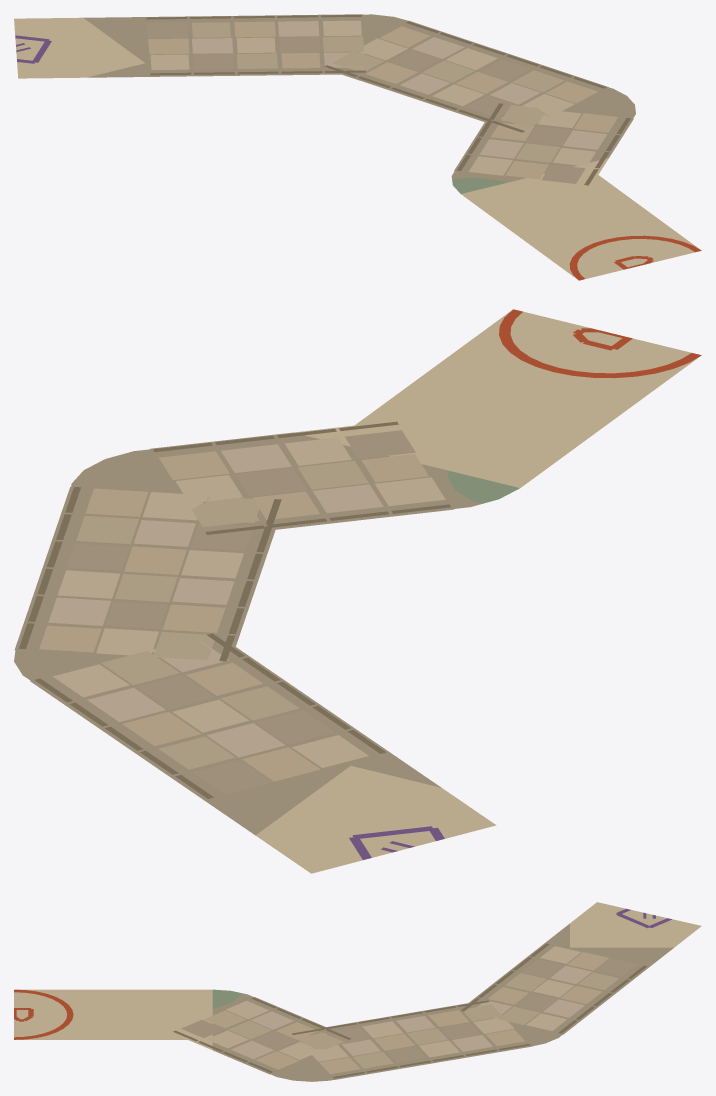
Rendered from route-pyramid_n-b-walk.glb.
The picture shows the model from 3 angles, top to bottom: view 1: azimuth 30°, elevation 25°; view 2: azimuth 150°, elevation 25°; view 3: azimuth 270°, elevation 25°; orthographic projection. The views are drawn at different scales.
Visible parts, largest first — view 1: Surveyed floor · route-pyramid_n-b-walk, North Pyramid to Bazaar Sanctuary / #C2AE8D, North Pyramid to Bazaar Sanctuary / #C9B798, North Pyramid to Bazaar Sanctuary / #BDAD8E, North Pyramid to Bazaar Sanctuary / #AE9D84, North Pyramid to Bazaar Sanctuary / #C7B399, North Pyramid to Bazaar Sanctuary / #85775D; view 2: Surveyed floor · route-pyramid_n-b-walk, North Pyramid to Bazaar Sanctuary / #C2AE8D, North Pyramid to Bazaar Sanctuary / #C9B798, North Pyramid to Bazaar Sanctuary / #BDAD8E, North Pyramid to Bazaar Sanctuary / #AE9D84, North Pyramid to Bazaar Sanctuary / #C7B399, North Pyramid to Bazaar Sanctuary / #85775D; view 3: Surveyed floor · route-pyramid_n-b-walk, North Pyramid to Bazaar Sanctuary / #C2AE8D, North Pyramid to Bazaar Sanctuary / #C9B798, North Pyramid to Bazaar Sanctuary / #BDAD8E, North Pyramid to Bazaar Sanctuary / #AE9D84, North Pyramid to Bazaar Sanctuary / #C7B399, North Pyramid to Bazaar Sanctuary / #85775D.
Part boxes in pixels (x1,y1,x2,y2): Surveyed floor · route-pyramid_n-b-walk: [14, 14, 701, 280]; North Pyramid to Bazaar Sanctuary / #C2AE8D: [148, 21, 617, 179]; North Pyramid to Bazaar Sanctuary / #C9B798: [150, 20, 595, 175]; North Pyramid to Bazaar Sanctuary / #BDAD8E: [192, 22, 564, 162]; North Pyramid to Bazaar Sanctuary / #AE9D84: [147, 22, 585, 183]; North Pyramid to Bazaar Sanctuary / #C7B399: [192, 21, 607, 158]; North Pyramid to Bazaar Sanctuary / #85775D: [146, 14, 630, 185]; Surveyed floor · route-pyramid_n-b-walk: [14, 309, 701, 873]; North Pyramid to Bazaar Sanctuary / #C2AE8D: [39, 451, 428, 781]; North Pyramid to Bazaar Sanctuary / #C9B798: [53, 437, 445, 767]; North Pyramid to Bazaar Sanctuary / #BDAD8E: [76, 461, 368, 769]; North Pyramid to Bazaar Sanctuary / #AE9D84: [67, 430, 415, 794]; North Pyramid to Bazaar Sanctuary / #C7B399: [48, 444, 383, 757]; North Pyramid to Bazaar Sanctuary / #85775D: [19, 421, 450, 798]; Surveyed floor · route-pyramid_n-b-walk: [14, 902, 701, 1081]; North Pyramid to Bazaar Sanctuary / #C2AE8D: [204, 952, 609, 1074]; North Pyramid to Bazaar Sanctuary / #C9B798: [207, 946, 580, 1061]; North Pyramid to Bazaar Sanctuary / #BDAD8E: [228, 972, 618, 1068]; North Pyramid to Bazaar Sanctuary / #AE9D84: [181, 958, 636, 1062]; North Pyramid to Bazaar Sanctuary / #C7B399: [231, 965, 591, 1059]; North Pyramid to Bazaar Sanctuary / #85775D: [173, 943, 646, 1078].
Size of the model in its own units: 21.42 by 0.026 by 34.64.
